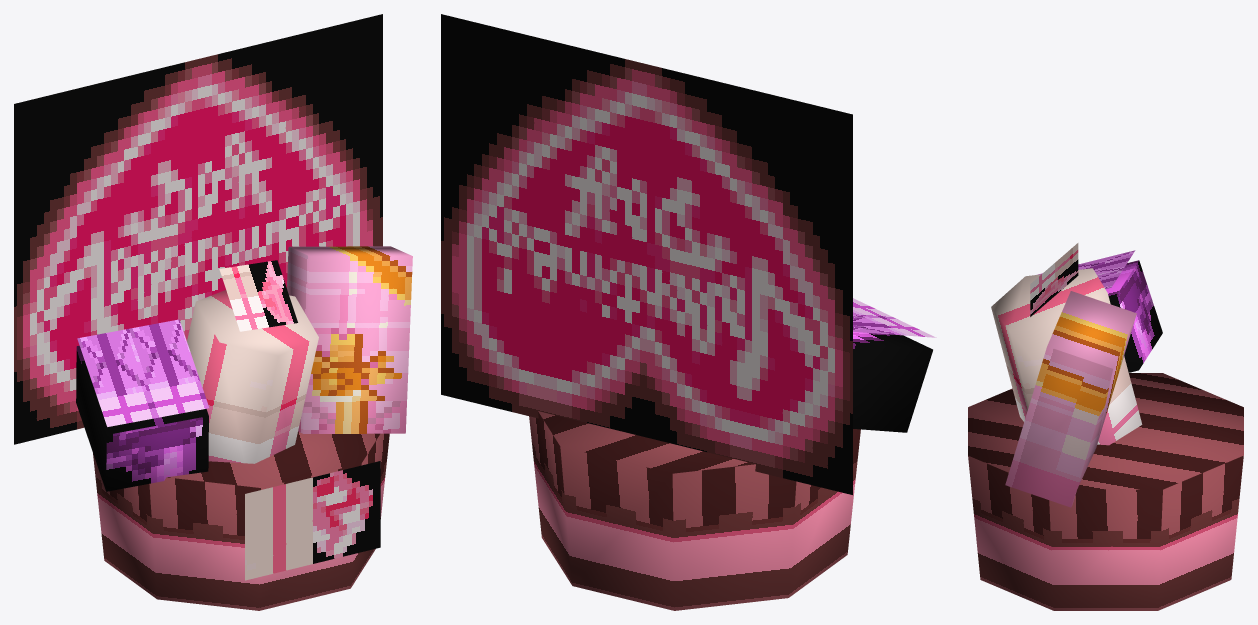
The picture shows the model from 3 angles, left to right: view 1: azimuth 30°, elevation 25°; view 2: azimuth 150°, elevation 25°; view 3: azimuth 270°, elevation 25°; orthographic projection. The views are drawn at different scales.
Parts seen in each view (by area): view 1: 3768kg_sh0_15; view 2: 3768kg_sh0_15; view 3: 3768kg_sh0_15.
Boxes of the visible parts, <box> form: 3768kg_sh0_15: <box>14,14,412,610</box>; 3768kg_sh0_15: <box>441,14,936,610</box>; 3768kg_sh0_15: <box>968,243,1243,610</box>.
Bounding box in the file's own units: 1.36 × 1.63 × 0.9038.
Materials: 4 (4 with a texture image).
